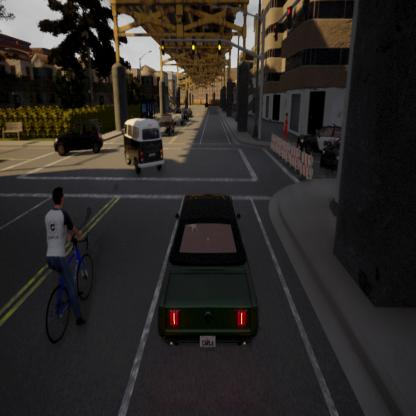Cars: (159, 196, 258, 348), (44, 186, 93, 340), (124, 117, 163, 176), (55, 122, 103, 155), (298, 124, 346, 154), (320, 139, 341, 172), (158, 112, 174, 135), (172, 108, 186, 128), (205, 102, 208, 109)
Pedestrian: (284, 111, 289, 141)
